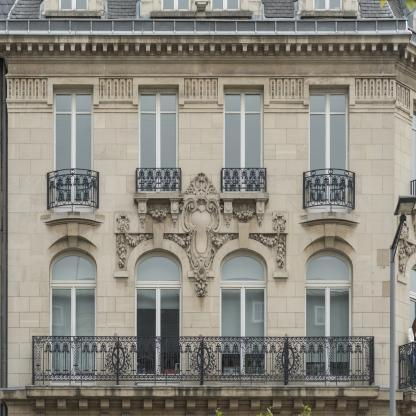Balcony: (33, 335, 375, 385), (47, 169, 100, 213), (303, 169, 355, 212), (221, 168, 267, 192), (136, 168, 182, 192)
Building Outline: (0, 0, 415, 415)
Deco: (114, 172, 288, 297)
Door: (309, 85, 350, 213), (53, 85, 93, 213), (305, 283, 353, 384), (220, 283, 268, 384), (135, 283, 182, 385), (50, 284, 97, 385), (138, 85, 179, 193), (223, 85, 264, 192)
Facade: (1, 0, 411, 415)
Floor: (1, 233, 414, 389), (1, 63, 414, 211)
Floor Slab: (1, 42, 414, 63), (1, 390, 414, 411), (1, 212, 414, 233)
Molding: (0, 42, 409, 78), (7, 397, 402, 411), (6, 78, 52, 112), (264, 78, 309, 112), (93, 78, 138, 112), (179, 78, 224, 112), (350, 78, 395, 112)
Roof: (0, 0, 410, 34)
Top Floor: (1, 0, 414, 42)
Window: (305, 248, 353, 283), (49, 248, 97, 283), (134, 248, 182, 283), (220, 248, 268, 283), (59, 1, 89, 10), (161, 1, 191, 10), (314, 1, 343, 10), (211, 1, 240, 10)
